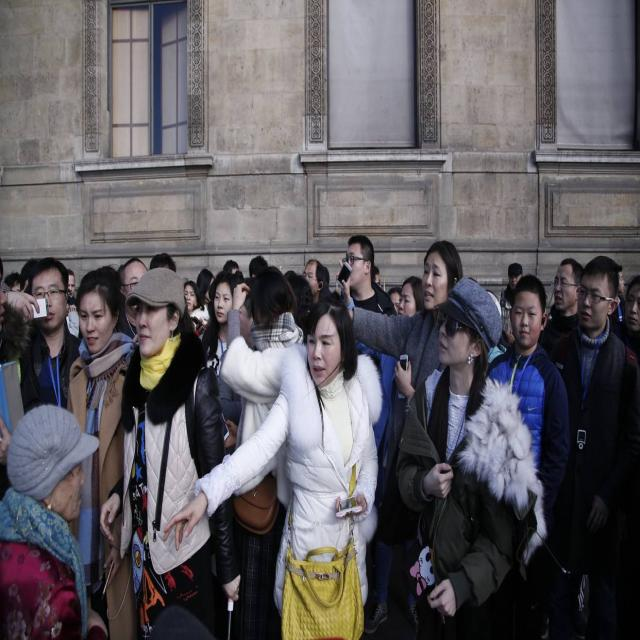body: (157, 288, 386, 639), (392, 273, 550, 639), (97, 262, 244, 640), (335, 237, 465, 550), (546, 253, 640, 640), (484, 273, 571, 637), (339, 274, 425, 636), (342, 274, 426, 634), (64, 264, 139, 640), (0, 400, 109, 639), (27, 256, 82, 411), (536, 256, 586, 361), (340, 234, 397, 318), (199, 272, 237, 378), (113, 255, 150, 348), (493, 262, 523, 346), (278, 266, 315, 330), (1, 256, 40, 311), (188, 266, 216, 342), (619, 270, 640, 360), (183, 279, 210, 341), (374, 267, 404, 316), (302, 258, 326, 306), (320, 262, 338, 322), (150, 251, 179, 282), (612, 262, 626, 326), (221, 260, 248, 292), (248, 255, 268, 280), (67, 268, 76, 297)
